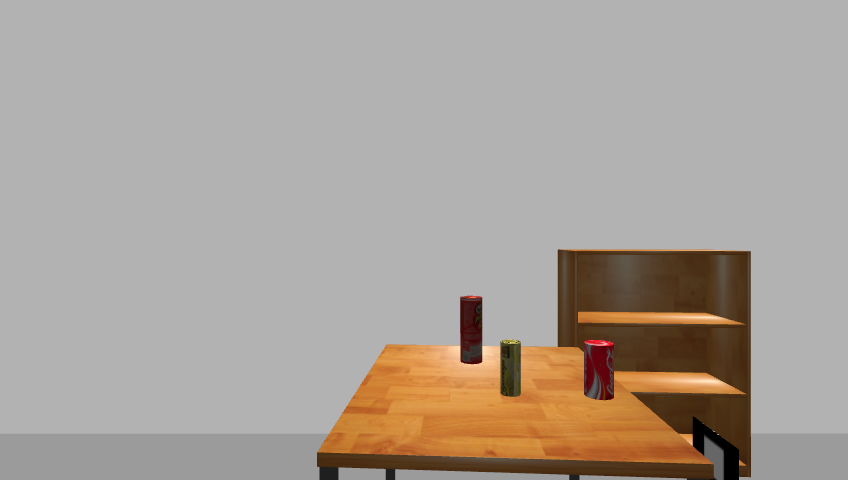aruco marker: (688, 417, 745, 480)
biscuits pack: (500, 340, 523, 398)
bookshelf: (553, 247, 758, 480)
coke can: (582, 340, 616, 401)
dinner table: (311, 342, 719, 480)
pringles can: (457, 294, 485, 366)
